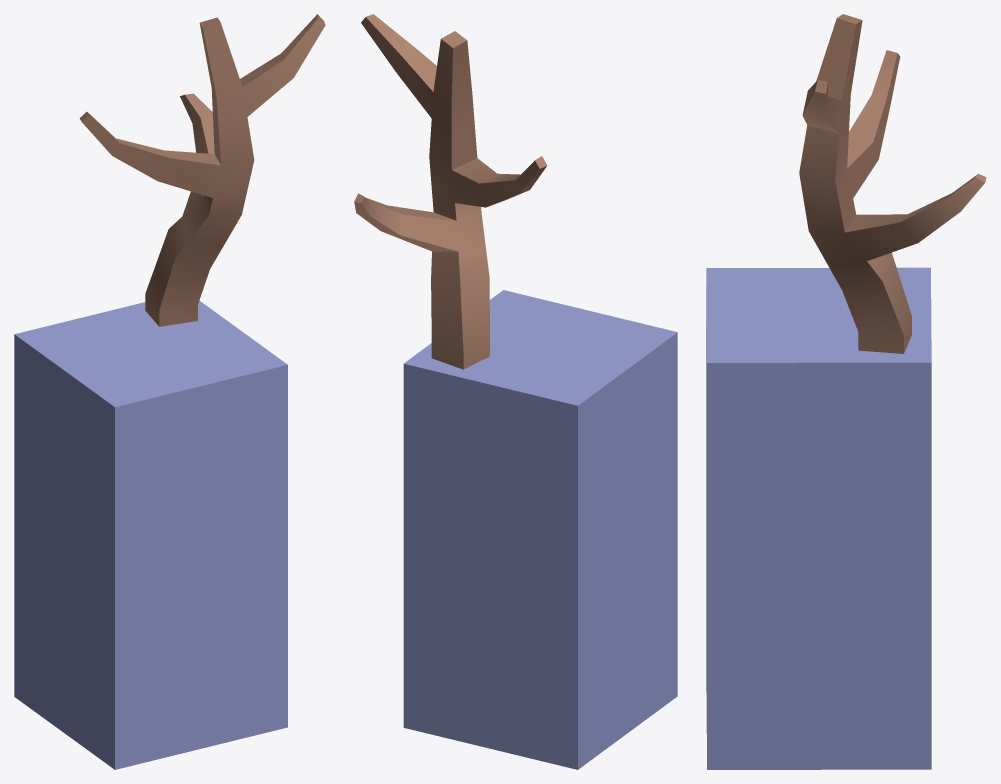
The model's file is tallWithTree.fbx.
3 renders of one model, left to right at view 1: azimuth 30°, elevation 25°; view 2: azimuth 150°, elevation 25°; view 3: azimuth 270°, elevation 25°, orthographic. The views are drawn at different scales.
Visible parts, largest first — view 1: tallWTree; view 2: tallWTree; view 3: tallWTree.
Part boxes in pixels (x1,y1,x2,y2): tallWTree: (14, 14, 325, 769); tallWTree: (354, 14, 677, 769); tallWTree: (706, 14, 986, 769).
Bounding box in the file's own units: 303 × 734 × 250.
